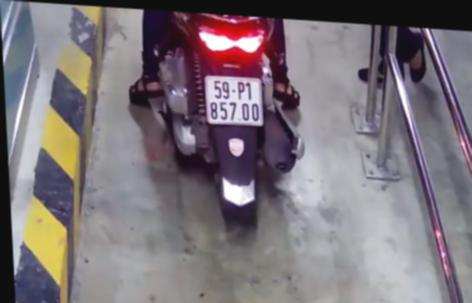License_Plate: (195, 69, 268, 133)
